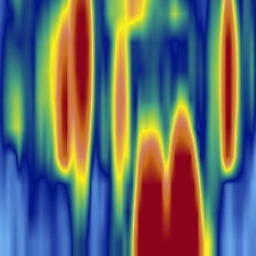defect: (163, 85, 203, 256), (209, 1, 245, 178), (37, 1, 74, 172), (106, 1, 134, 217), (128, 96, 165, 256), (1, 1, 32, 166), (71, 1, 89, 224), (162, 1, 192, 36)
